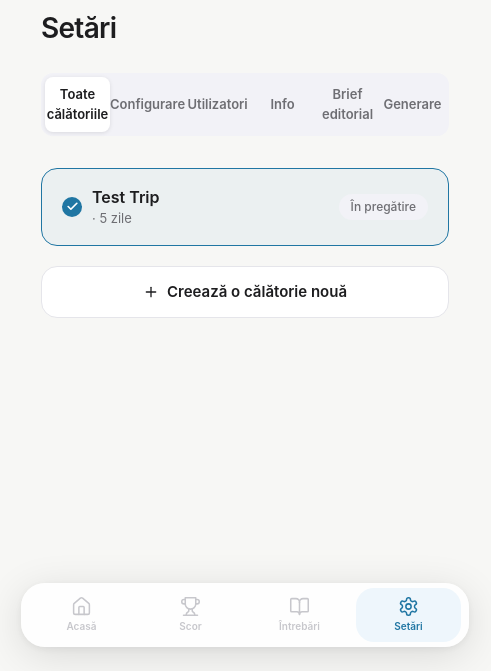
Test: R9: Generare tab -- no brief / brief summary / state badge › shows a message when the trip has no brief yet, and no Generează button
Click the button "Generare".
click(412, 104)  # box [380,77,445,132]
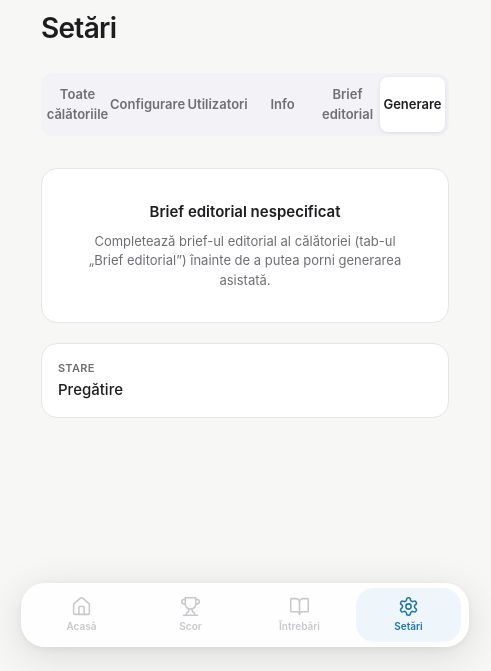
Check: the text "Brief editorial nespecificat" is shown, box [150,202,340,221]
